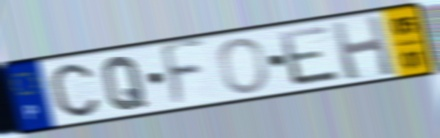C: (48, 61, 102, 119)
E: (275, 23, 344, 88)
F: (158, 36, 208, 112)
H: (328, 12, 399, 83)
O: (216, 36, 271, 95)
Q: (100, 54, 150, 112)
